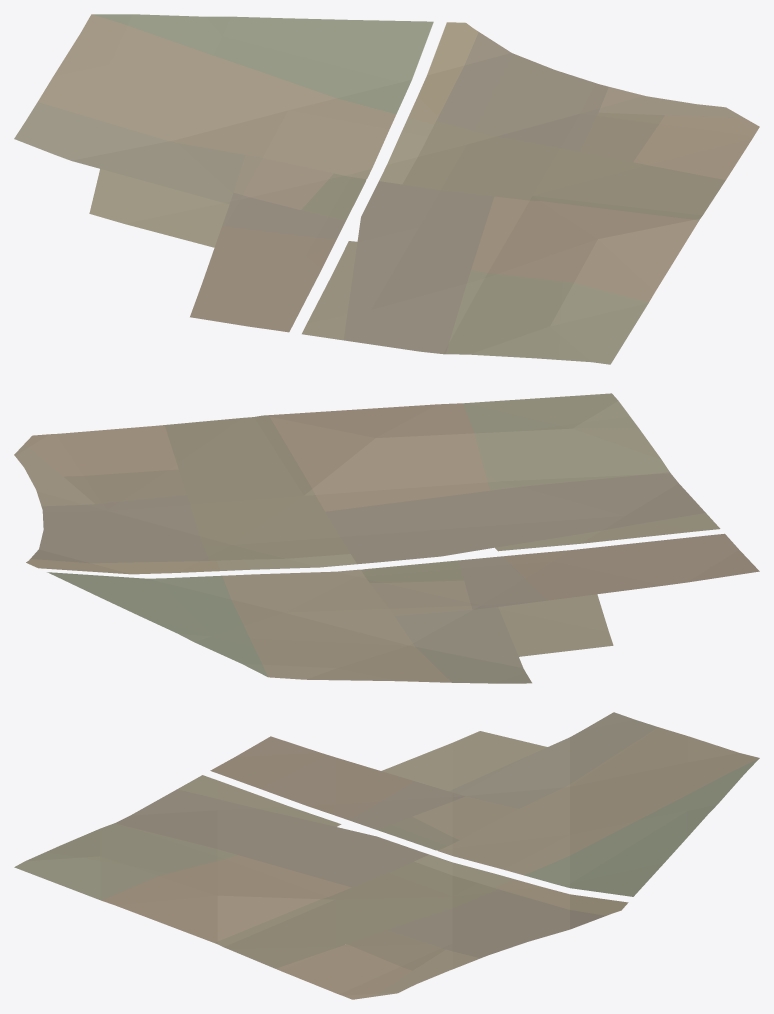
The model's file is farm_-20_-24_soil.glb.
The picture shows the model from 3 angles, top to bottom: view 1: azimuth 30°, elevation 25°; view 2: azimuth 150°, elevation 25°; view 3: azimuth 270°, elevation 25°; orthographic projection. The views are drawn at different scales.
Parts seen in each view (by area): view 1: geometry_0; view 2: geometry_0; view 3: geometry_0.
Part boxes in pixels (x1=…): geometry_0: x1=14, y1=14, x2=759, y2=364; geometry_0: x1=14, y1=393, x2=759, y2=683; geometry_0: x1=14, y1=712, x2=759, y2=999.
Size of the model in its own units: 435 by 50.94 by 508.
